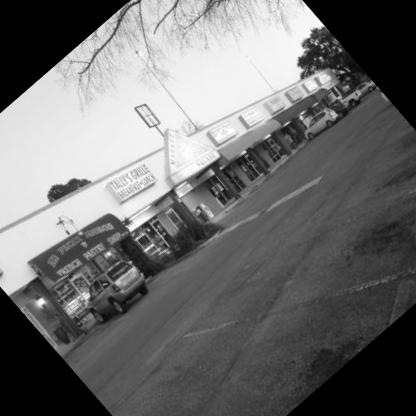car: (73, 248, 166, 339), (299, 103, 347, 149)
